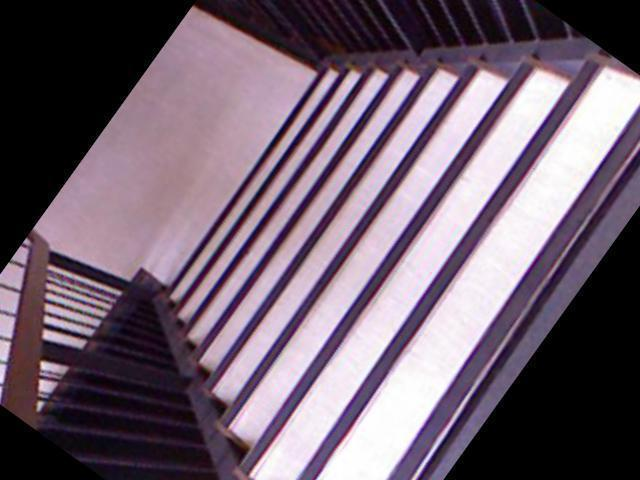Escaleras: (90, 0, 640, 480), (0, 443, 390, 480)
